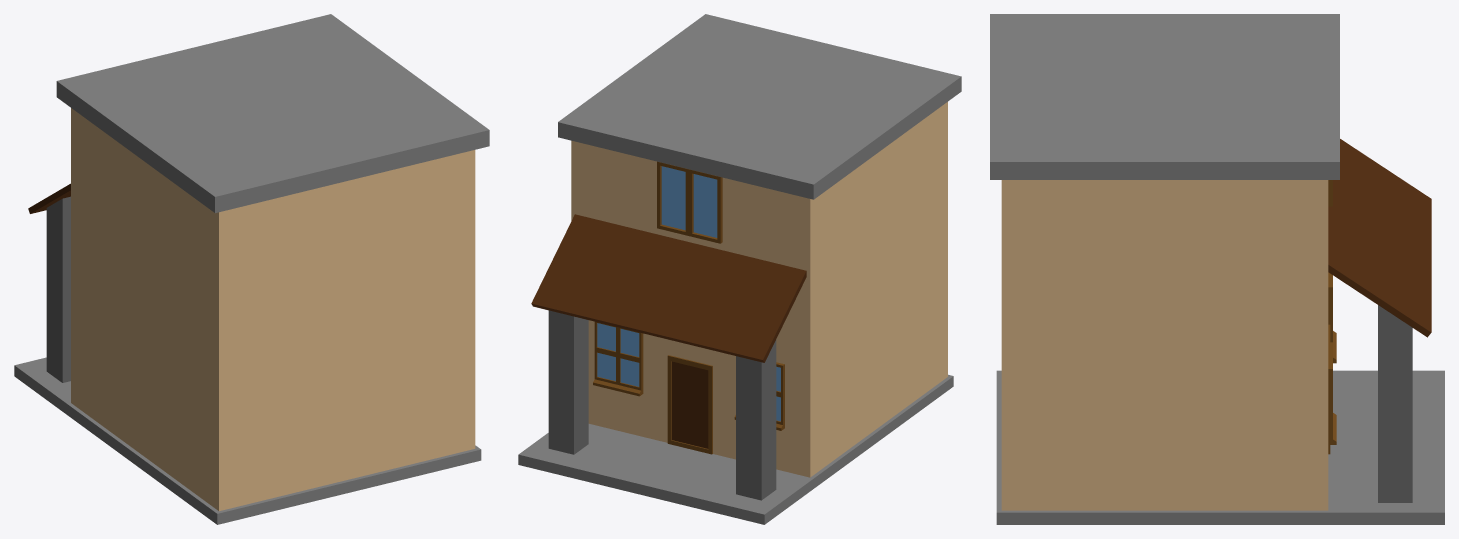
File: House2.fbx
The picture shows the model from 3 angles, left to right: view 1: azimuth 30°, elevation 25°; view 2: azimuth 150°, elevation 25°; view 3: azimuth 270°, elevation 25°; orthographic projection. The views are drawn at different scales.
Visible parts, largest first — view 1: House.001, Columns; view 2: House.001, Roof.001, Columns, Top Window, Door.001, Windows; view 3: House.001, Roof.001, Columns, Windows.
Part boxes in pixels (box(x1,y1,x2,y2)): House.001: box(14, 14, 489, 524); Columns: box(46, 196, 70, 382); House.001: box(518, 14, 961, 524); Roof.001: box(531, 214, 806, 362); Columns: box(548, 310, 776, 500); Top Window: box(657, 161, 722, 243); Door.001: box(667, 355, 712, 454); Windows: box(593, 321, 784, 430); House.001: box(990, 14, 1444, 524); Roof.001: box(1328, 139, 1431, 337); Columns: box(1378, 305, 1412, 502); Windows: box(1328, 272, 1336, 444).
Bounding box in the file's own units: 803 × 927 × 1045.
